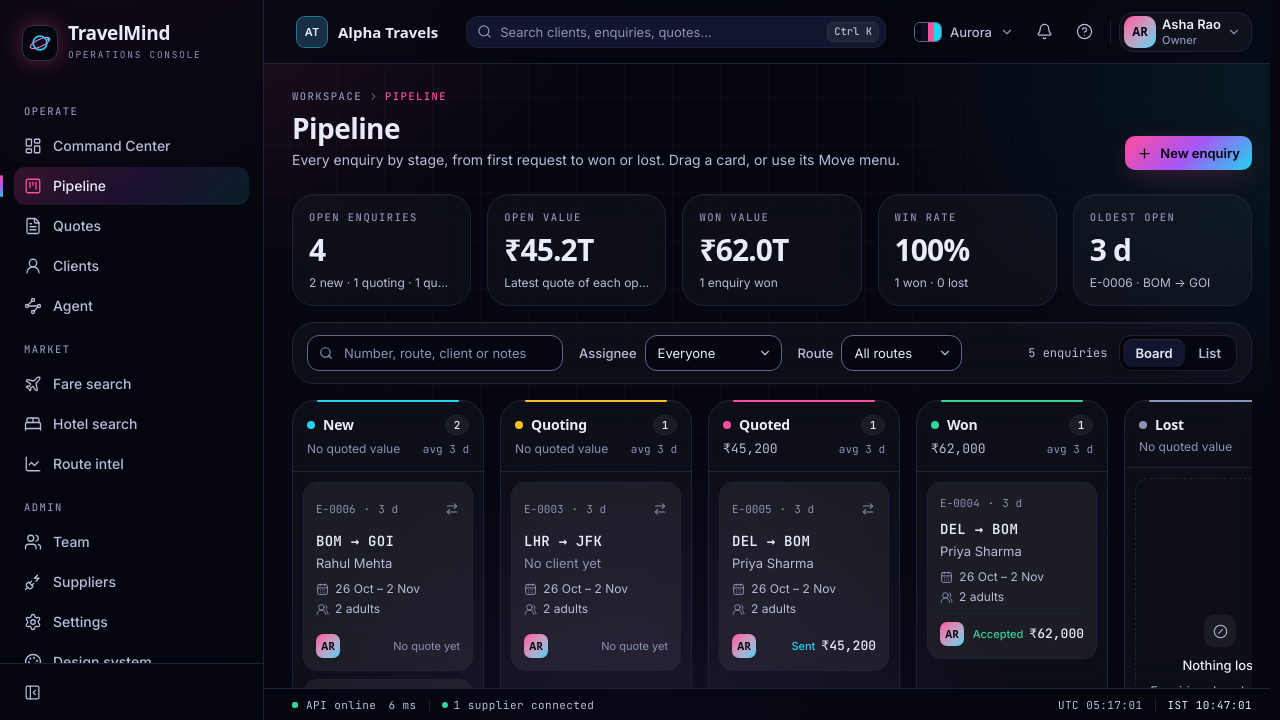
Test: a refused move puts back only that card, not one moved meanwhile
Click the button named "Move E-0006": click(452, 509) top-left (438, 491), bottom-right (466, 527)
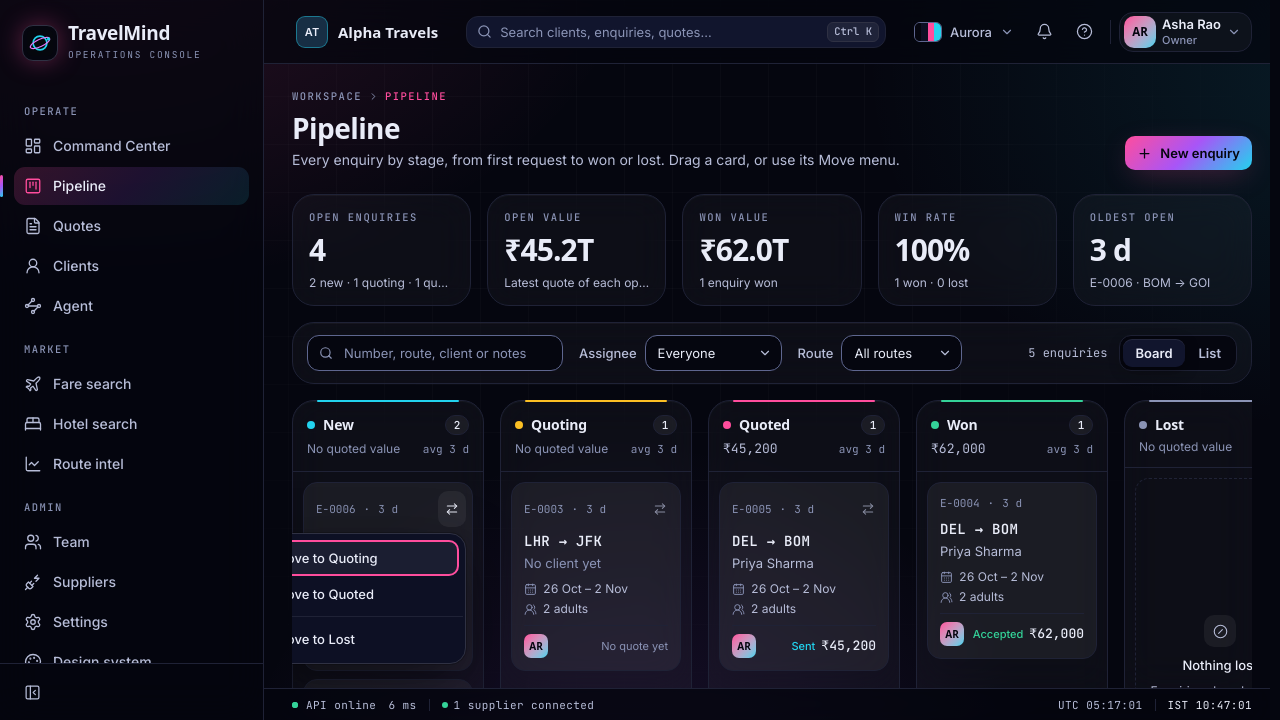
Click the menu item "Move to Quoting": click(362, 558) top-left (265, 540), bottom-right (459, 576)
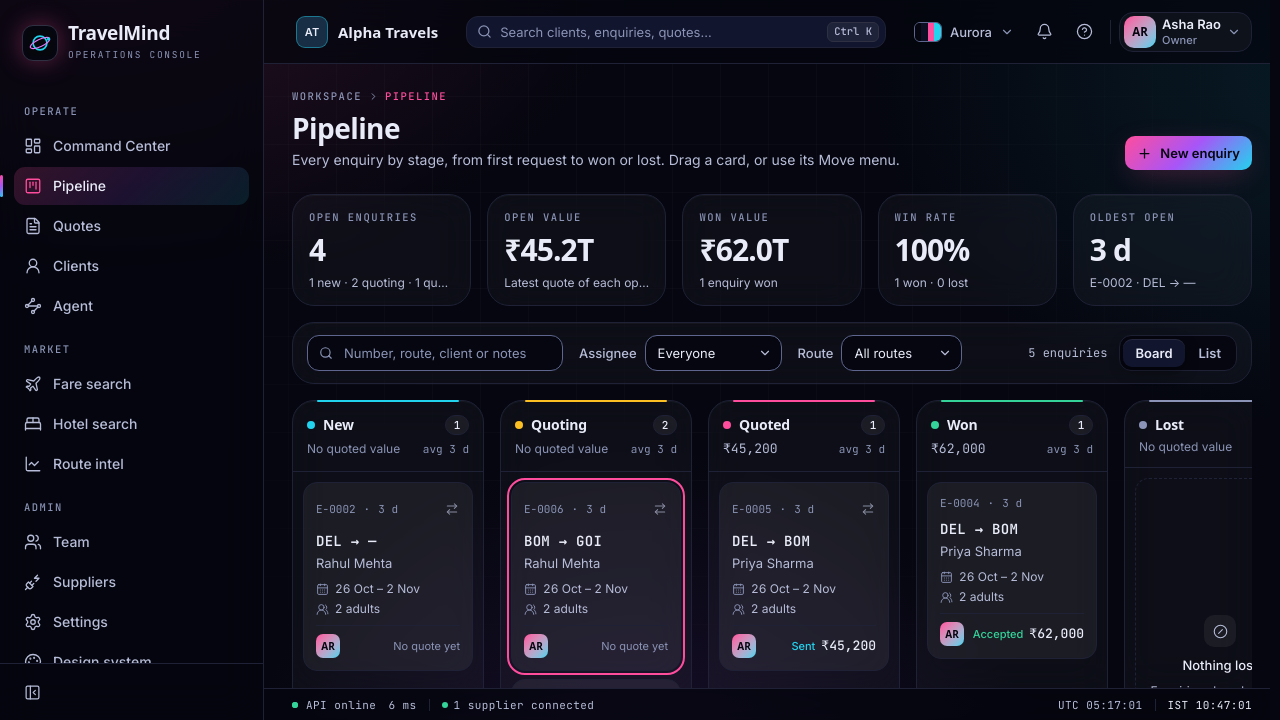
Click the button named "Move E-0002": click(452, 509) top-left (438, 491), bottom-right (466, 527)
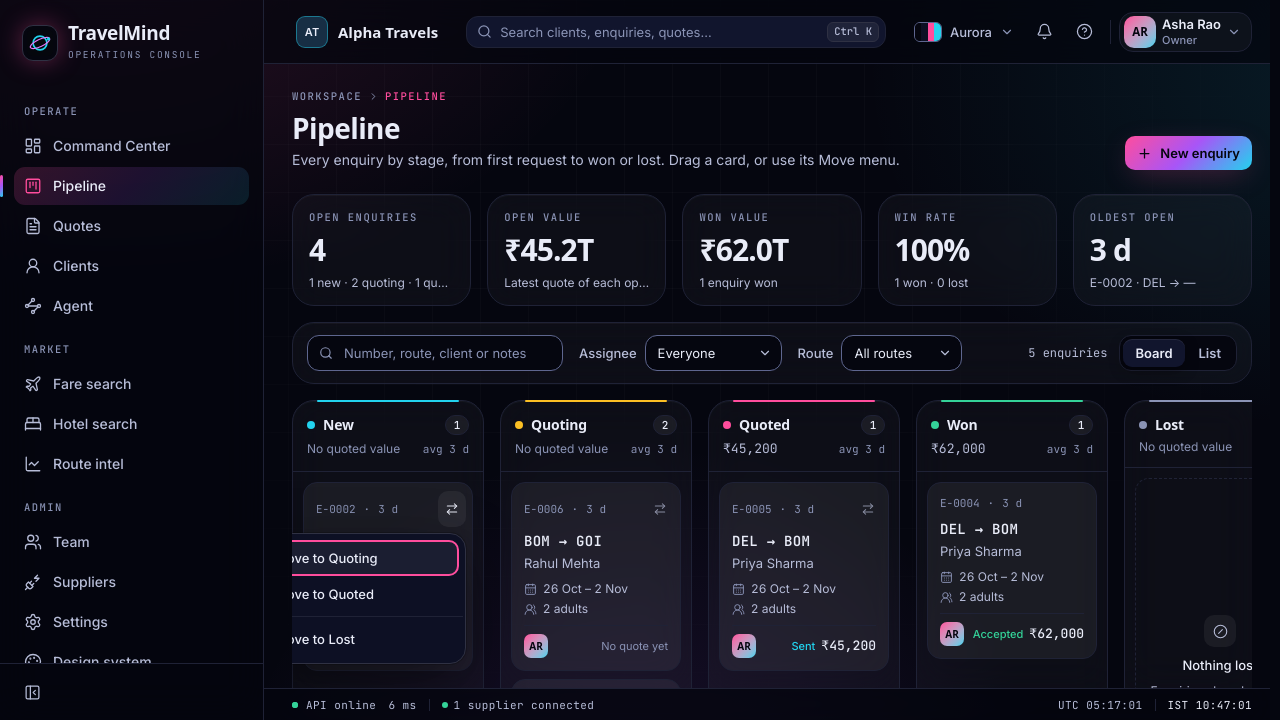
Click the menu item "Move to Quoting": click(362, 558) top-left (265, 540), bottom-right (459, 576)
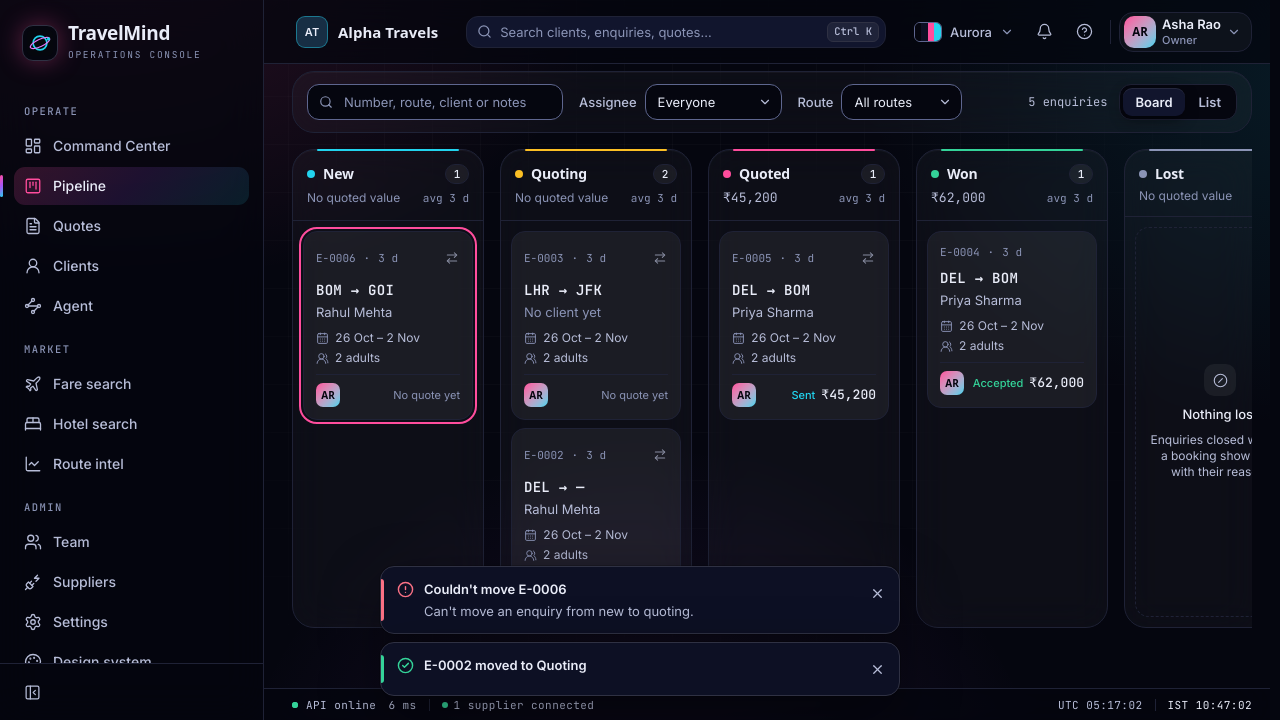
Check: the text "Can't move an enquiry from new to quoting." is shown, box top-left (424, 603), bottom-right (694, 619)
Check: the element named "E-0006 BOM → GOI" is shown, box top-left (303, 231), bottom-right (473, 420)
